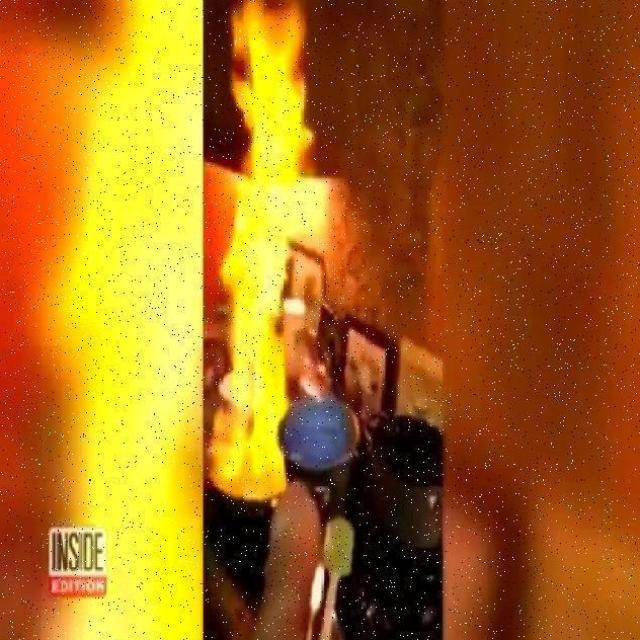smoke: (209, 0, 308, 501)
